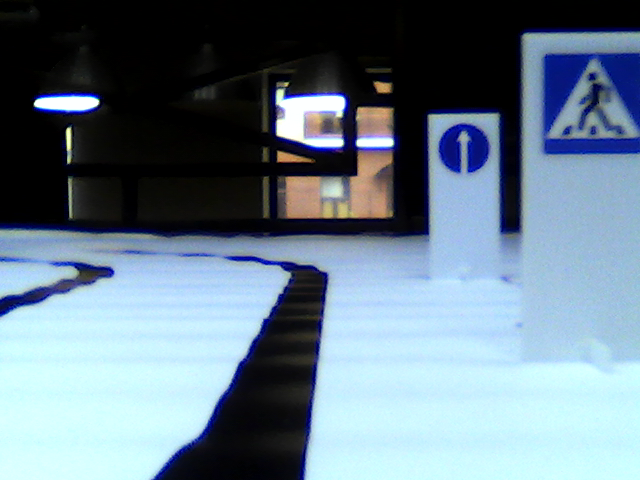forw: (439, 122, 492, 175)
pesh: (539, 53, 636, 159)
